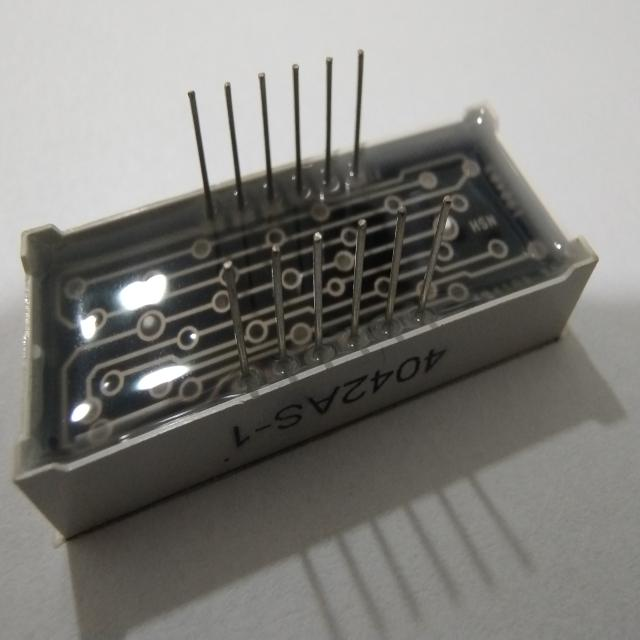7_segments_4_digits: (0, 39, 606, 547)
